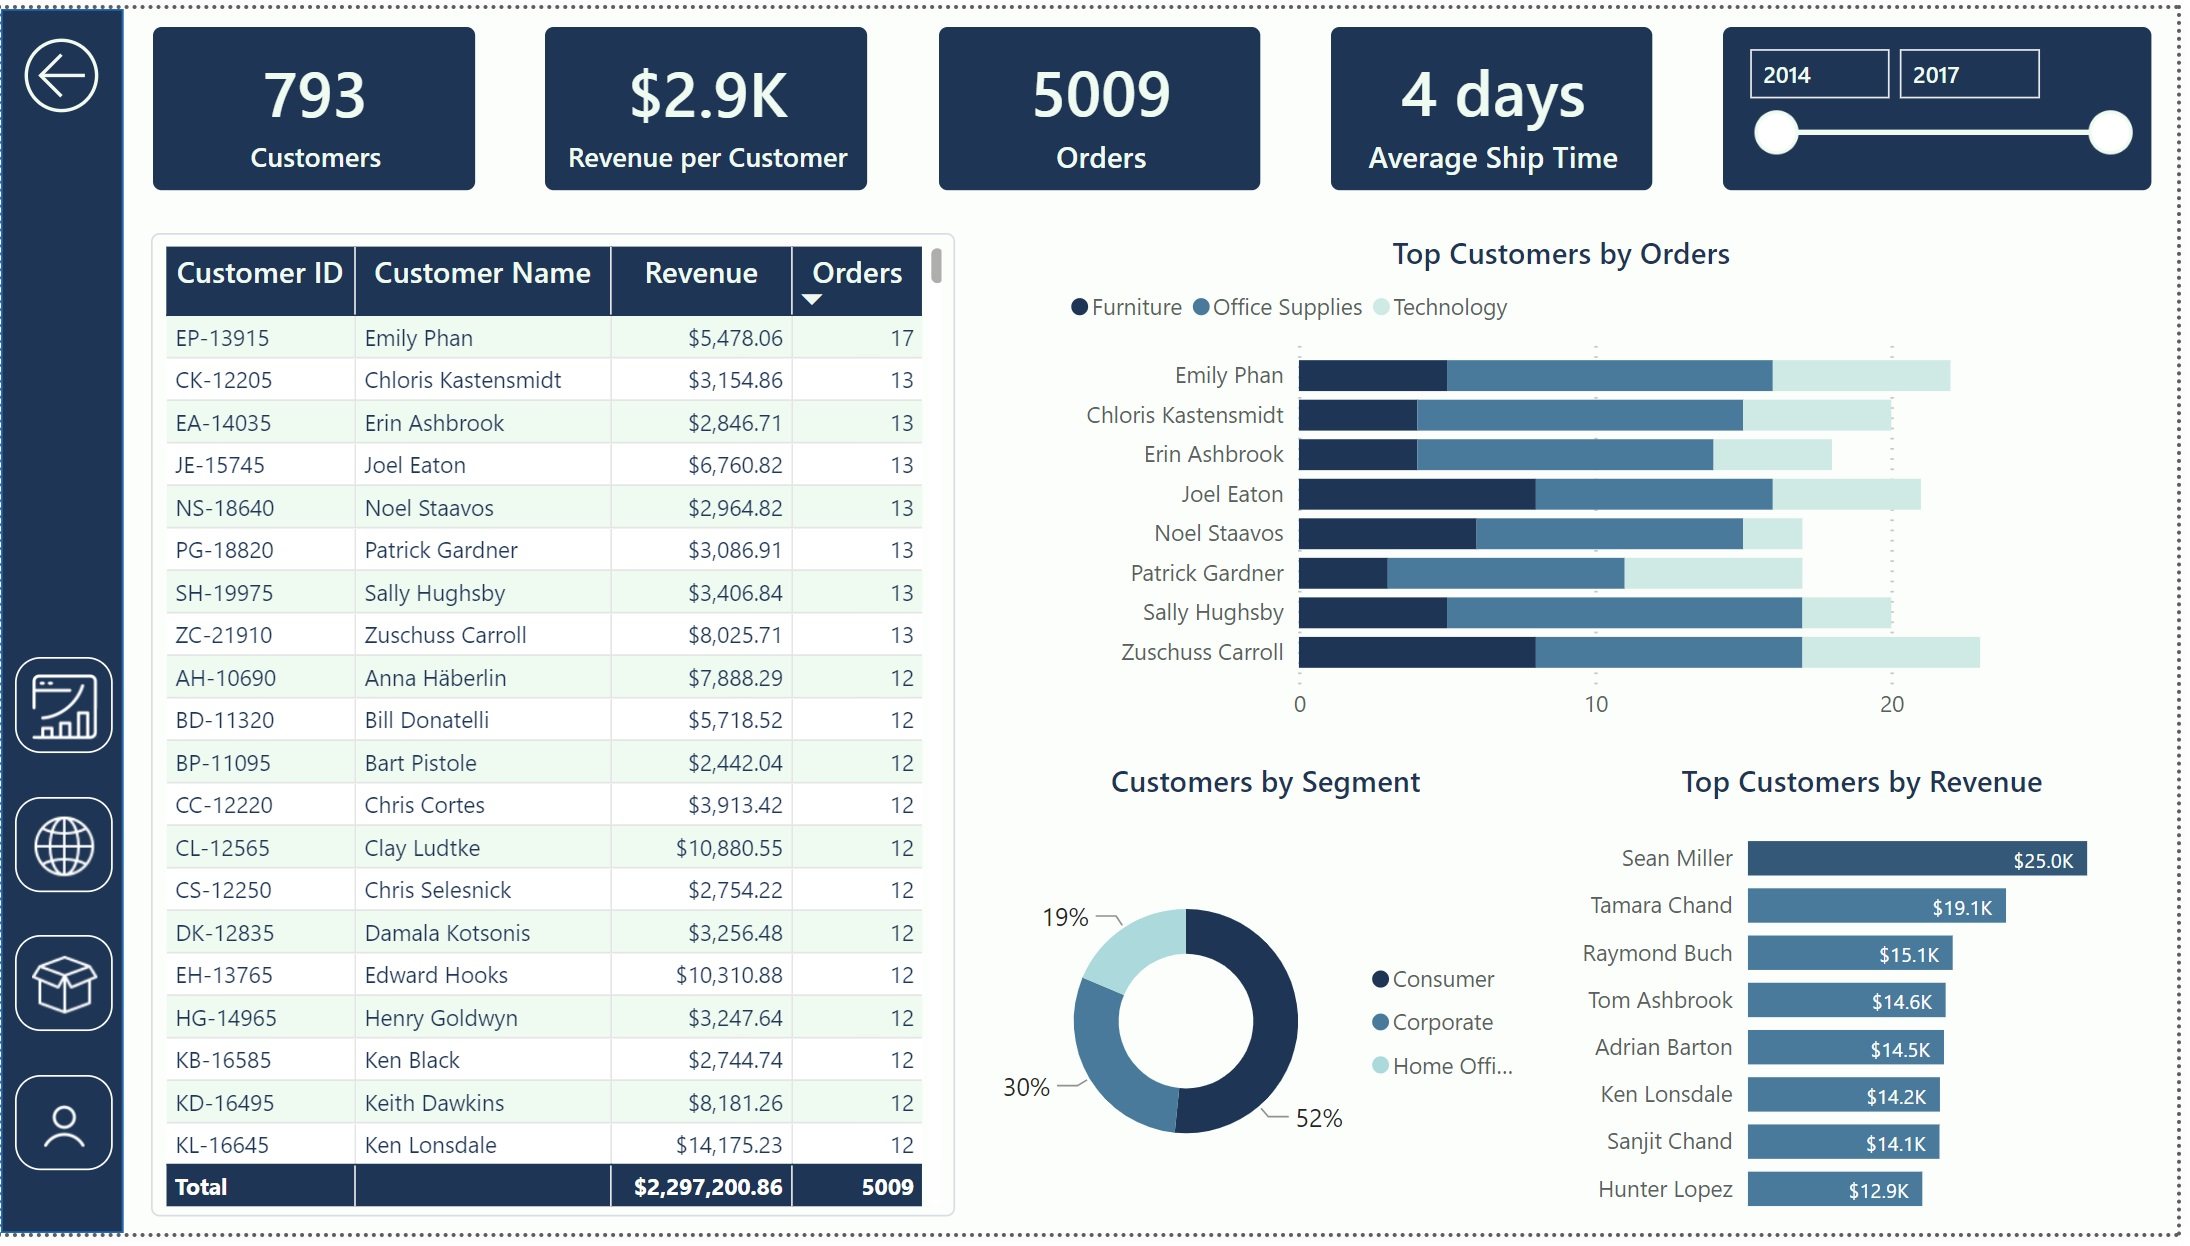

What the dashboard file says about the page in this screenshot:
{"tool":"powerbi","page":{"name":"Customers","canvas":[1280,720],"ordinal":3},"visuals":[{"type":"card","title":"Customers","fields":{"Values":["Measure Table.CustomerID"]},"box":[89,10.4,189.7,96.2],"z":0},{"type":"actionButton","title":"Customers","box":[8,627.3,57.7,56],"z":0,"group":"g1"},{"type":"tableEx","fields":{"Values":["Customers.Customer ID","Customers.Customer Name","Measure Table.Revenue","Measure Table.Orders"]},"box":[88.4,131.2,473,578.3],"z":1000},{"type":"actionButton","title":"Products","box":[8,544.9,57.7,56.6],"z":1000,"group":"g1"},{"type":"donutChart","fields":{"Category":["Customers.Segment"],"Y":["Measure Table.Customers"]},"box":[583.5,441.8,321,278.1],"z":2000},{"type":"actionButton","title":"Globe","box":[8,463.2,57.7,56],"z":2000,"group":"g1"},{"type":"actionButton","title":"Dashboard","box":[8,380.8,57.7,56.6],"z":3000,"group":"g1"},{"type":"barChart","title":"Top Customers by Revenue","fields":{"Category":["Customers.Customer Name"],"Y":["Measure Table.Revenue"]},"box":[918.1,441.8,354.1,278.6],"z":3000},{"type":"barChart","title":"Top Customers by Orders","fields":{"Category":["Customers.Customer Name"],"Y":["Measure Table.Orders"],"Series":["Products.Category"]},"box":[623.8,131.2,588.7,296.3],"z":4000},{"type":"shape","box":[0,0,72,720],"z":5000},{"type":"slicer","fields":{"Values":["Calendar.Year"]},"box":[1012.5,10,252,96],"z":6000},{"type":"card","title":"Customers","fields":{"Values":["Measure Table.Revenue per Customer"]},"box":[320.2,10,189.7,96.2],"z":7000},{"type":"card","title":"Customers","fields":{"Values":["Measure Table.Orders"]},"box":[551.5,10.4,189,96.2],"z":8000},{"type":"card","title":"Customers","fields":{"Values":["Measure Table.Average Ship Time"]},"box":[782,10.4,189,96.2],"z":9000},{"type":"actionButton","box":[6.8,10.2,58,56.8],"z":10000},{"type":"group","id":"g1","title":"Group 1","box":[8,380.8,57.7,302.5],"z":11000}]}

Visuals, with their boxes on the page's 1280x720 design canvas (x1, y1, x2, y2). These are canvas units, not pixel positions in the 2190x1246 screenshot, which may show the page scaled, cropped or inside an application window:
"Customers" card: [left=89, top=10, right=279, bottom=107]
"Customers" actionButton: [left=8, top=627, right=66, bottom=683]
tableEx - Customers.Customer ID x Customers.Customer Name: [left=88, top=131, right=561, bottom=710]
"Products" actionButton: [left=8, top=545, right=66, bottom=602]
donutChart - Customers.Segment x Measure Table.Customers: [left=584, top=442, right=904, bottom=720]
"Globe" actionButton: [left=8, top=463, right=66, bottom=519]
"Dashboard" actionButton: [left=8, top=381, right=66, bottom=437]
"Top Customers by Revenue" barChart: [left=918, top=442, right=1272, bottom=720]
"Top Customers by Orders" barChart: [left=624, top=131, right=1212, bottom=428]
shape: [left=0, top=0, right=72, bottom=720]
slicer - Calendar.Year: [left=1012, top=10, right=1264, bottom=106]
"Customers" card: [left=320, top=10, right=510, bottom=106]
"Customers" card: [left=552, top=10, right=740, bottom=107]
"Customers" card: [left=782, top=10, right=971, bottom=107]
actionButton: [left=7, top=10, right=65, bottom=67]
"Group 1" group: [left=8, top=381, right=66, bottom=683]
